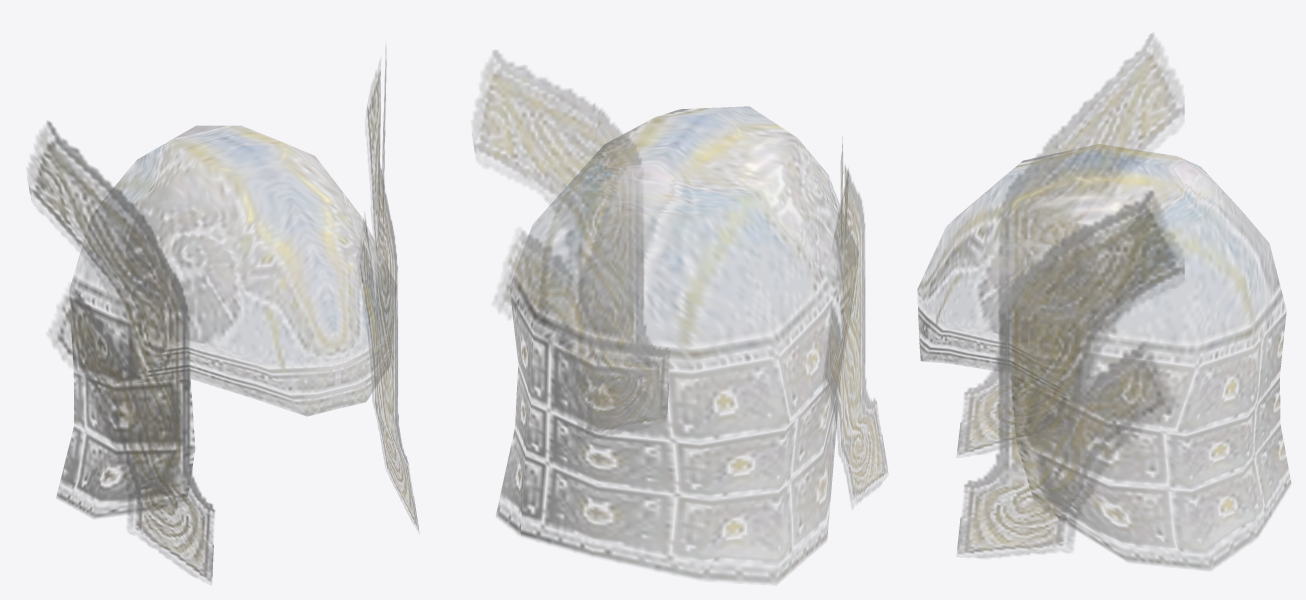
The model's file is heavy_04_ha.glb.
3 renders of one model, left to right at view 1: azimuth 30°, elevation 25°; view 2: azimuth 150°, elevation 25°; view 3: azimuth 270°, elevation 25°, orthographic. The views are drawn at different scales.
Parts seen in each view (by area): view 1: heavy_04_ha; view 2: heavy_04_ha; view 3: heavy_04_ha.
Boxes of the visible parts, x1,y1,x2,y2 form: heavy_04_ha: (28, 47, 418, 583); heavy_04_ha: (472, 50, 887, 584); heavy_04_ha: (917, 33, 1291, 570).
Size of the model in its own units: 0.2555 by 0.2728 by 0.2279.
Materials: 1 (1 with a texture image).
